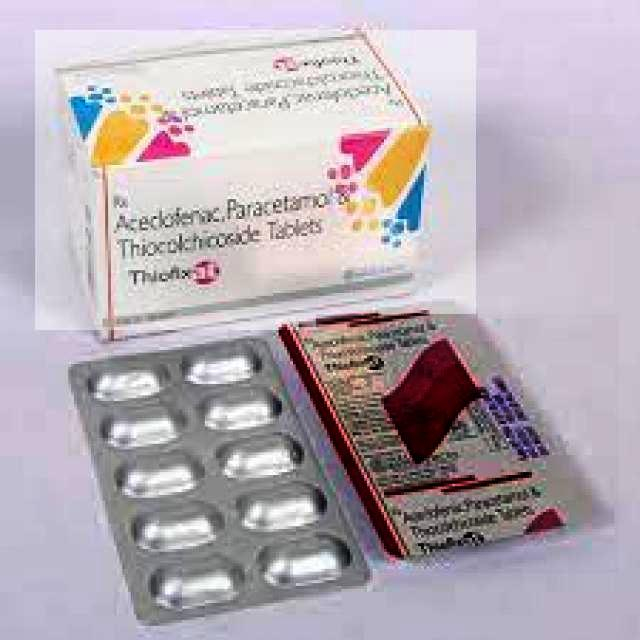authentic: (35, 30, 476, 330), (54, 346, 364, 624), (316, 314, 619, 573)
